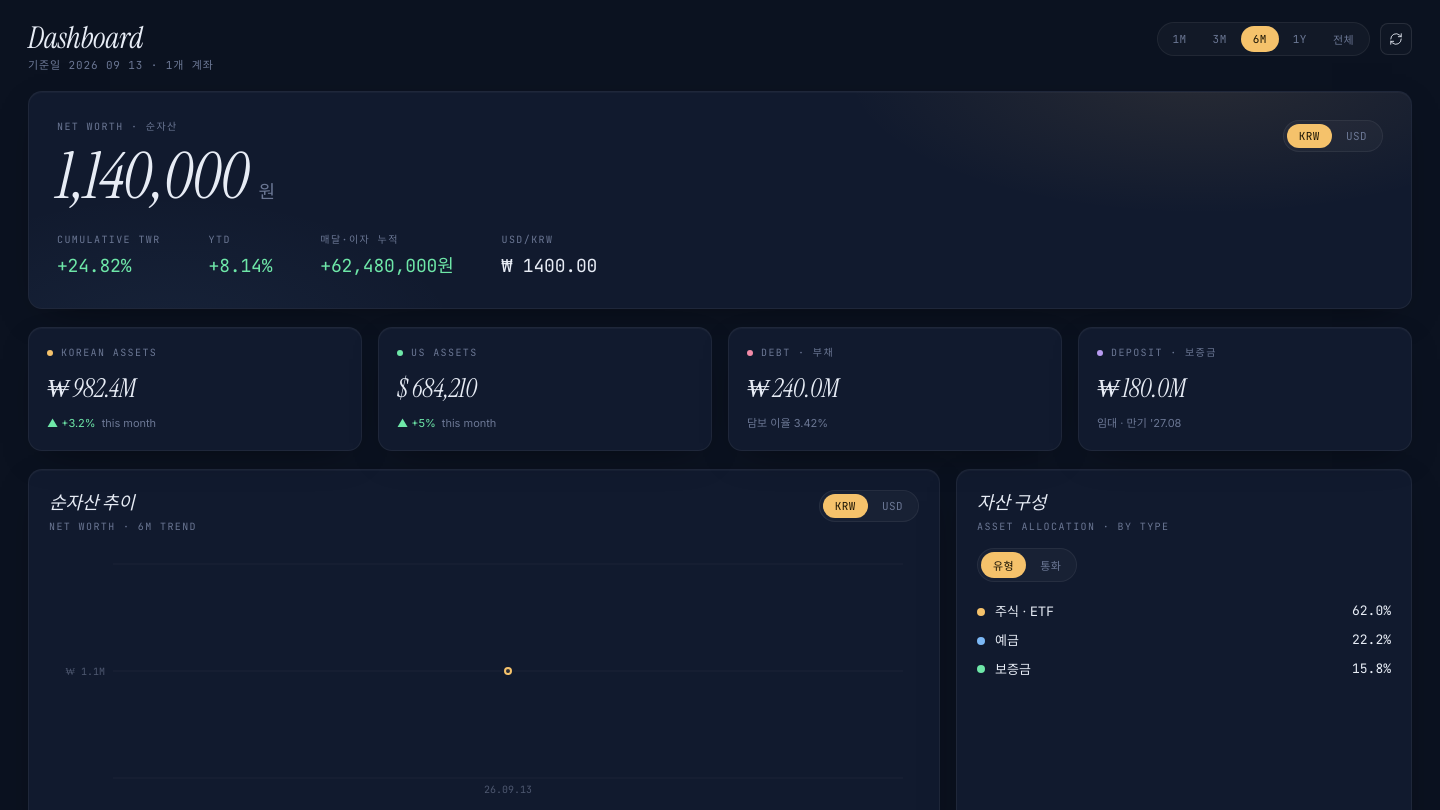
Test case: DashboardPage › 통화를 바꾸면 그 날의 환율로 환산된 달러 순자산을 보여준다
The image size is (1440, 810).
Check: the text "1,140,000" is shown, box [57,145,248,209]
Click the button "USD" in the row of "1,140,000": (1356, 136) [1334,124,1379,148]
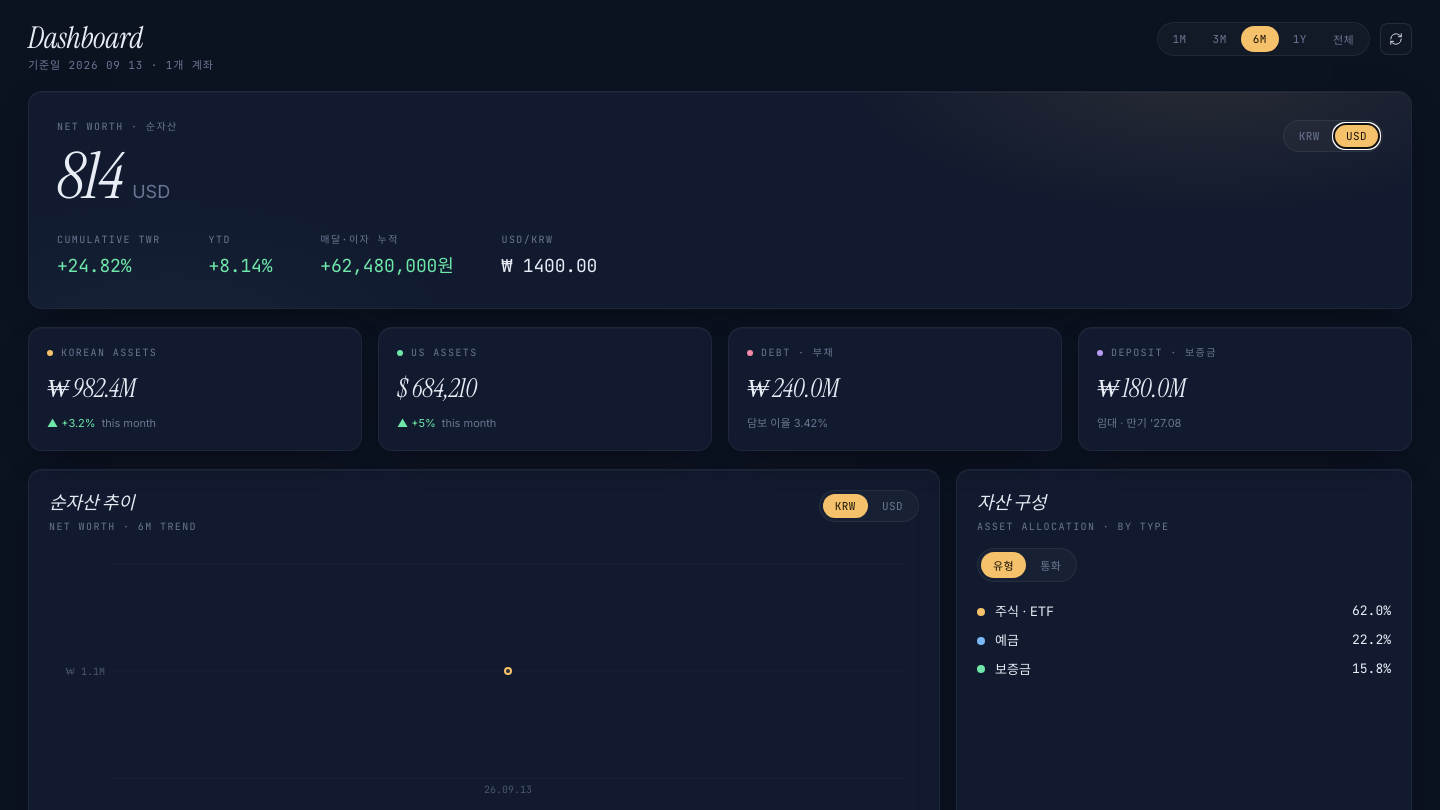
Check: the text "814" is shown, box [57,145,122,209]
